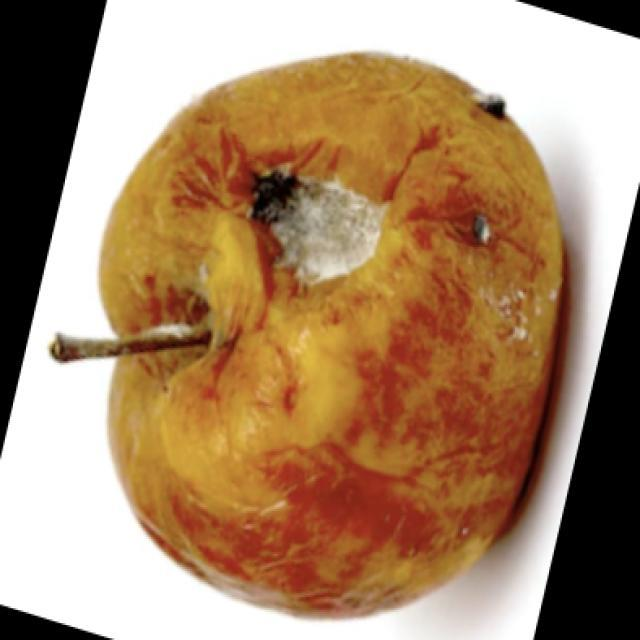Rotten: (83, 60, 590, 615)
